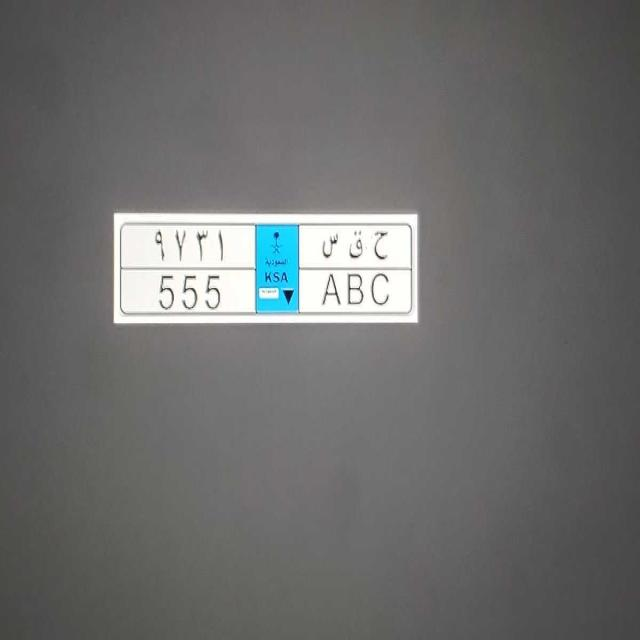license_plate: (128, 269, 406, 317)
